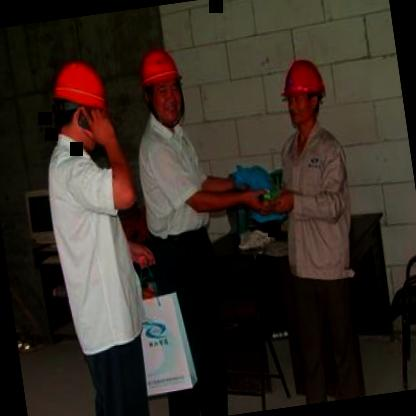helmet: (42, 50, 119, 156), (132, 36, 190, 130), (274, 51, 332, 136)
